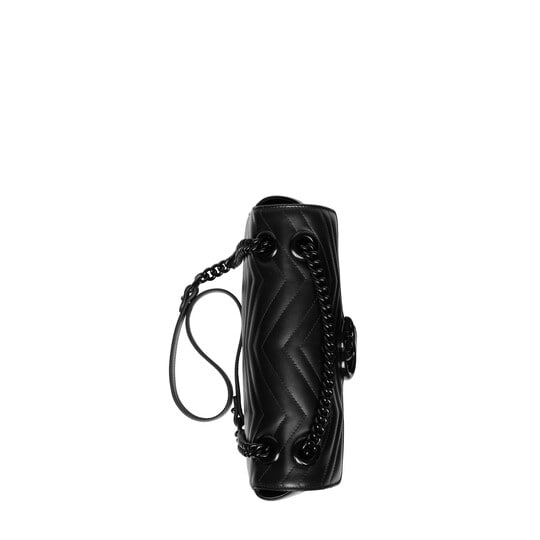Gucci: (199, 158, 401, 521), (266, 274, 326, 418)
